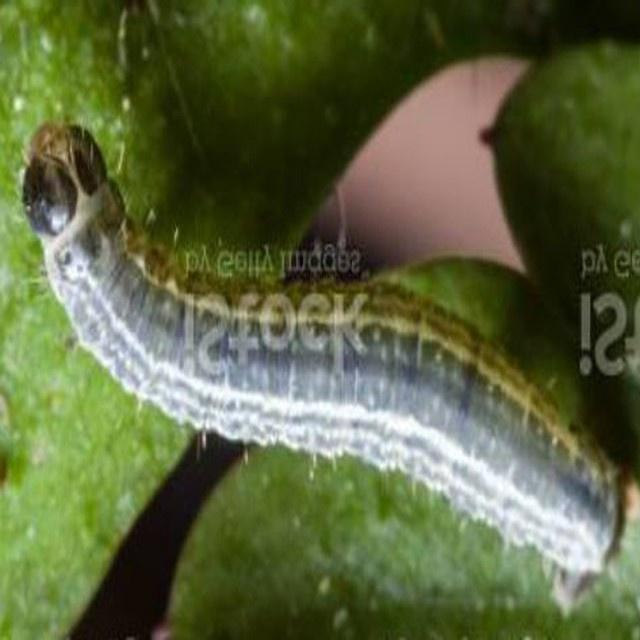Plaga: (33, 123, 623, 568)
